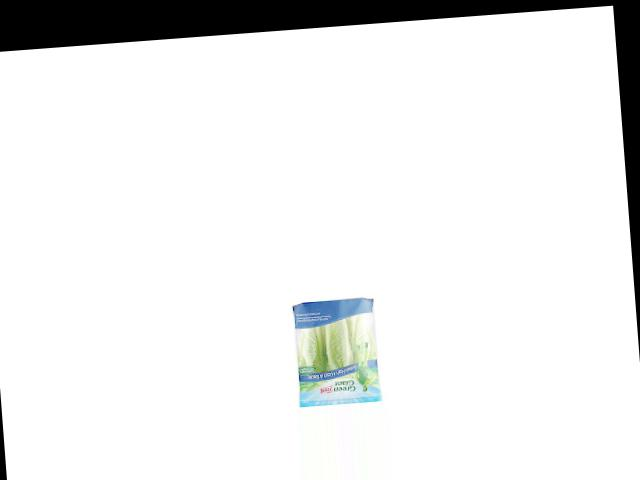lettuce: (290, 292, 384, 402)
